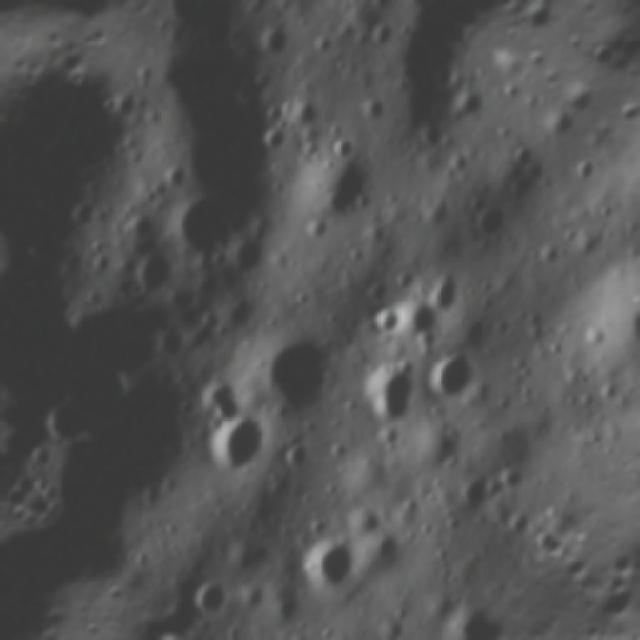crater: (249, 324, 346, 422), (161, 178, 257, 268), (296, 518, 386, 611), (198, 395, 284, 483), (416, 343, 487, 415), (359, 356, 426, 426), (356, 280, 422, 348), (127, 232, 190, 300), (460, 192, 518, 251), (558, 148, 613, 204), (183, 568, 234, 620), (255, 113, 296, 155), (326, 119, 366, 159), (357, 0, 397, 18)
